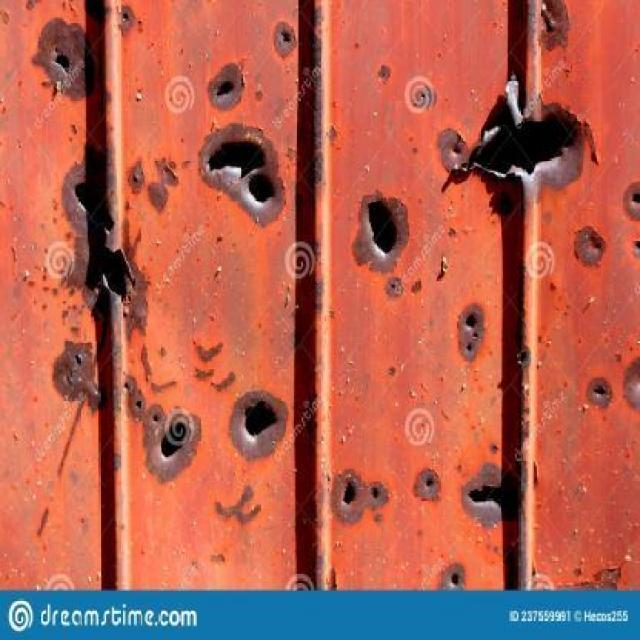hole: (455, 72, 581, 188), (69, 146, 143, 319), (198, 124, 291, 224), (118, 373, 200, 484), (53, 340, 106, 414), (233, 391, 287, 460), (467, 473, 523, 524), (366, 197, 402, 258), (212, 66, 246, 106), (49, 38, 77, 80), (506, 544, 517, 592), (342, 481, 358, 509), (281, 29, 295, 49), (516, 350, 529, 367), (466, 315, 479, 331), (593, 386, 607, 399), (424, 477, 437, 491), (450, 573, 461, 589), (121, 12, 132, 26), (372, 486, 380, 502), (633, 193, 640, 206), (390, 283, 398, 294), (595, 244, 603, 252), (635, 243, 640, 254), (467, 344, 473, 353), (474, 332, 480, 340), (421, 95, 427, 100), (455, 151, 460, 157), (383, 75, 386, 80), (415, 151, 418, 154)
rust: (307, 4, 327, 190), (527, 1, 571, 53), (147, 158, 181, 217), (215, 486, 263, 526), (624, 358, 640, 412), (127, 160, 147, 200), (196, 343, 224, 366), (211, 372, 237, 394), (140, 344, 154, 383), (152, 380, 178, 397), (195, 369, 215, 384), (183, 161, 192, 170)
